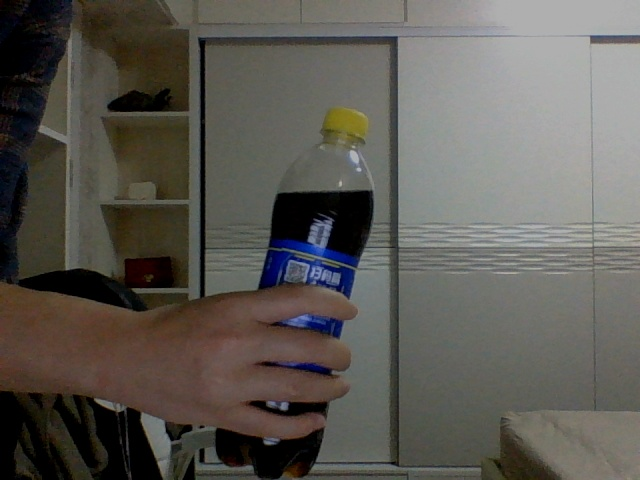Cola: (215, 102, 375, 479)
